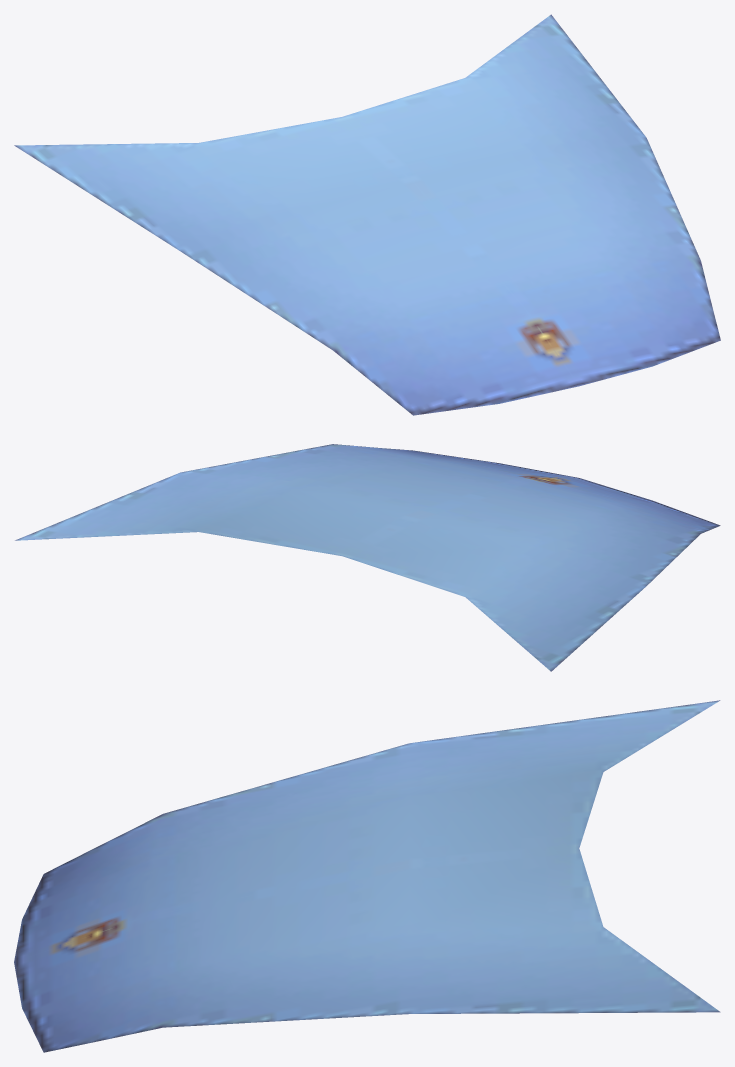
Rendered from Cofre.obj.
The picture shows the model from 3 angles, top to bottom: view 1: azimuth 30°, elevation 25°; view 2: azimuth 150°, elevation 25°; view 3: azimuth 270°, elevation 25°; orthographic projection. The views are drawn at different scales.
Visible parts, largest first — view 1: Cofre; view 2: Cofre; view 3: Cofre.
Boxes of the visible parts, <box> form: Cofre: <box>14,14,720,415</box>; Cofre: <box>15,444,720,671</box>; Cofre: <box>14,700,720,1052</box>.
Size of the model in its own units: 4.66 by 0.8047 by 4.46.
